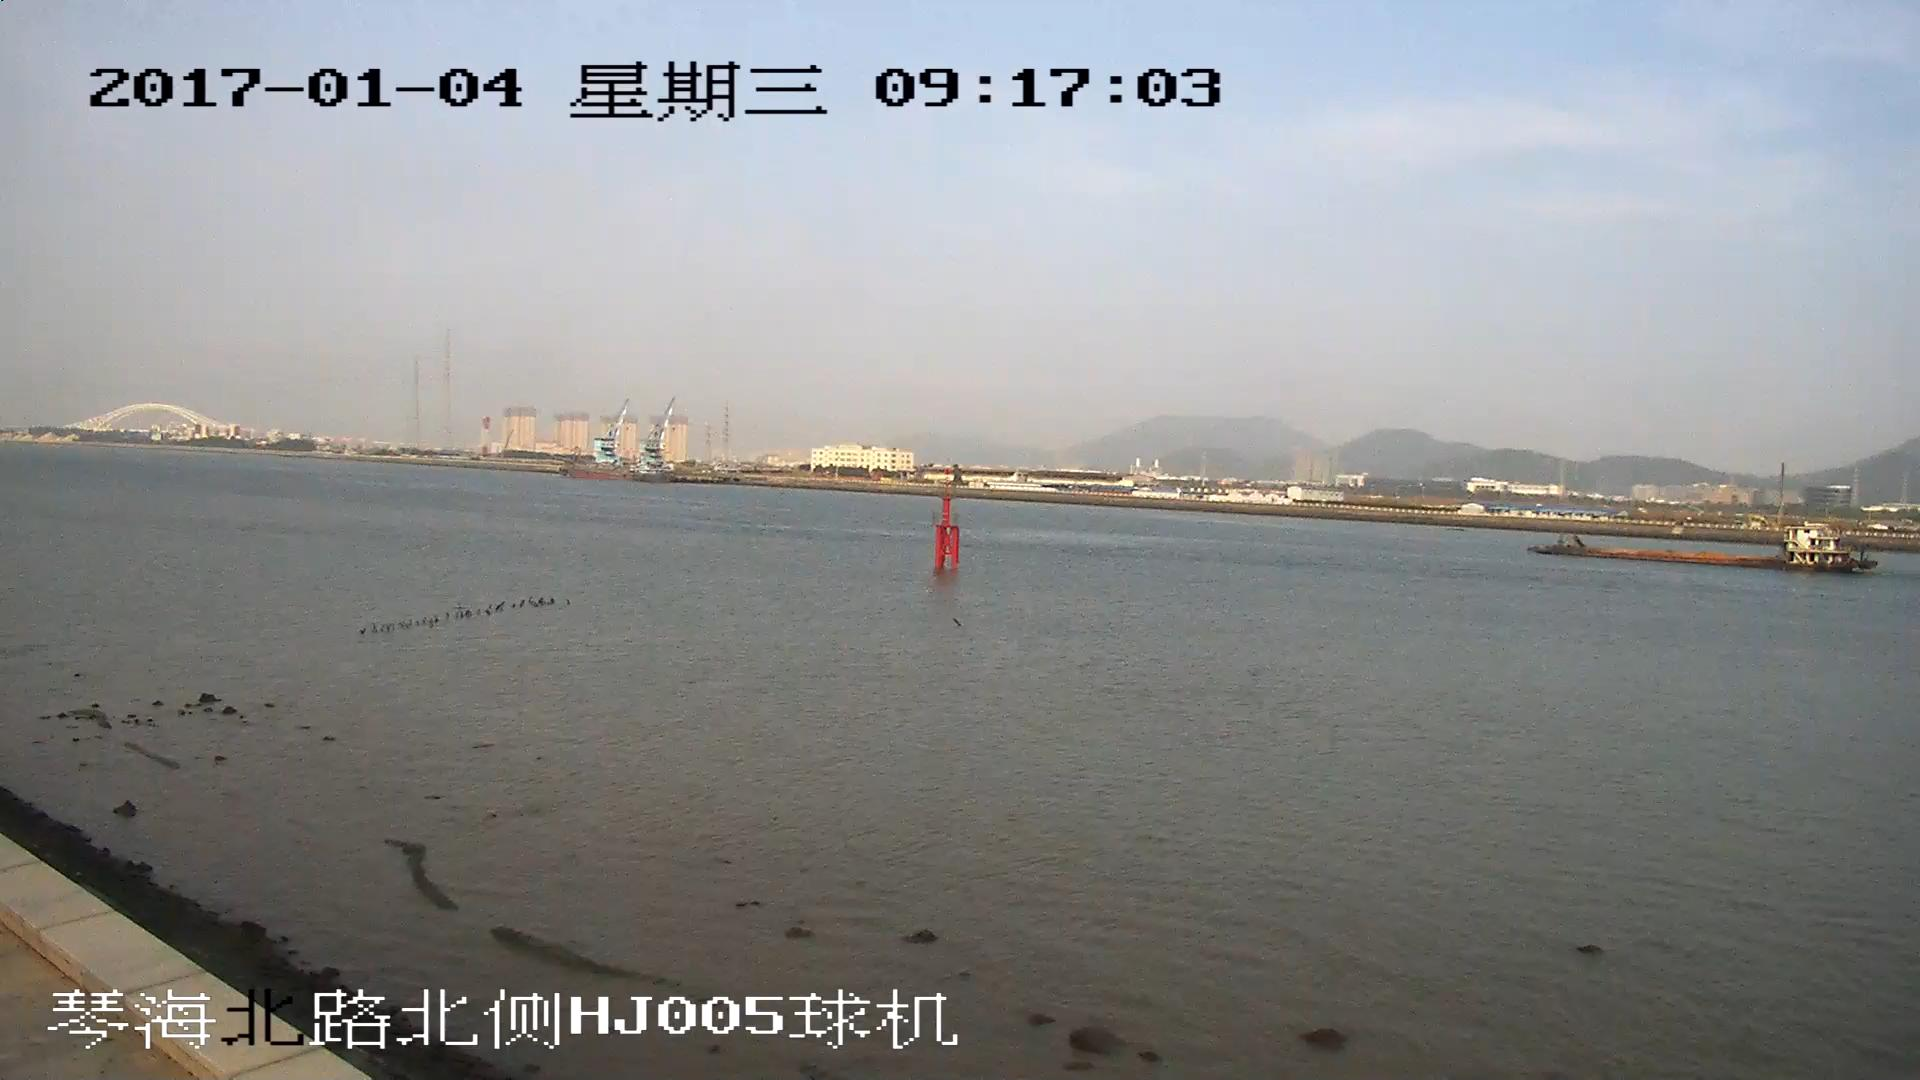ore carrier: (1535, 520, 1875, 574)
